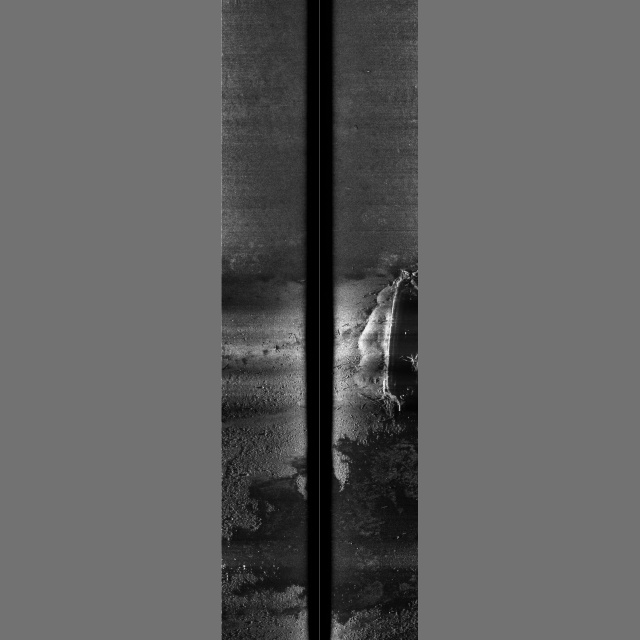Shipwreck: (275, 267, 418, 509)
